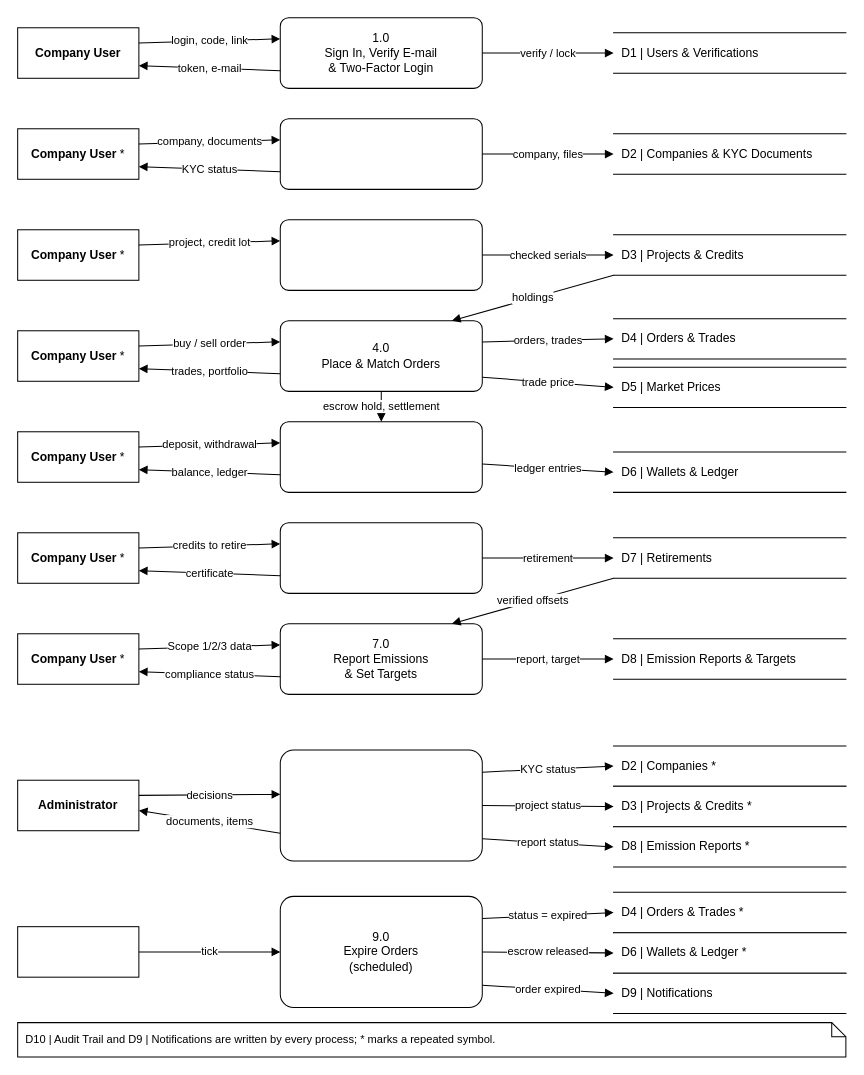
The diagram is 864 pixels wide and 1075 high, and some of its shapes have lost their labels. The centre of each missing label's shape, as x and y in pixels:
2.0 Register Company & Upload KYC: the point at 380,153
3.0 Manage Projects & Issue Credits: the point at 380,254
5.0 Manage Wallet & Settle Trades: the point at 380,456
6.0 Retire Credits & Issue Certificates: the point at 380,557
8.0 Review & Oversee: the point at 380,805
System Clock (every 60 s): the point at 78,951
